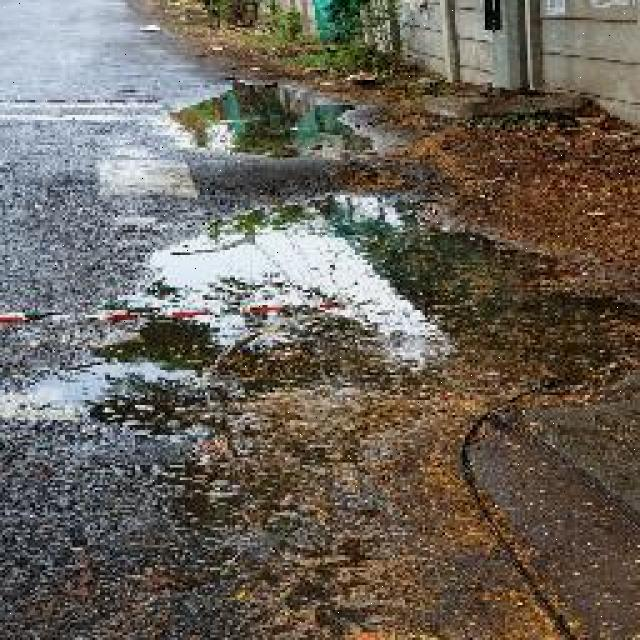stagnation: (115, 196, 586, 384)
